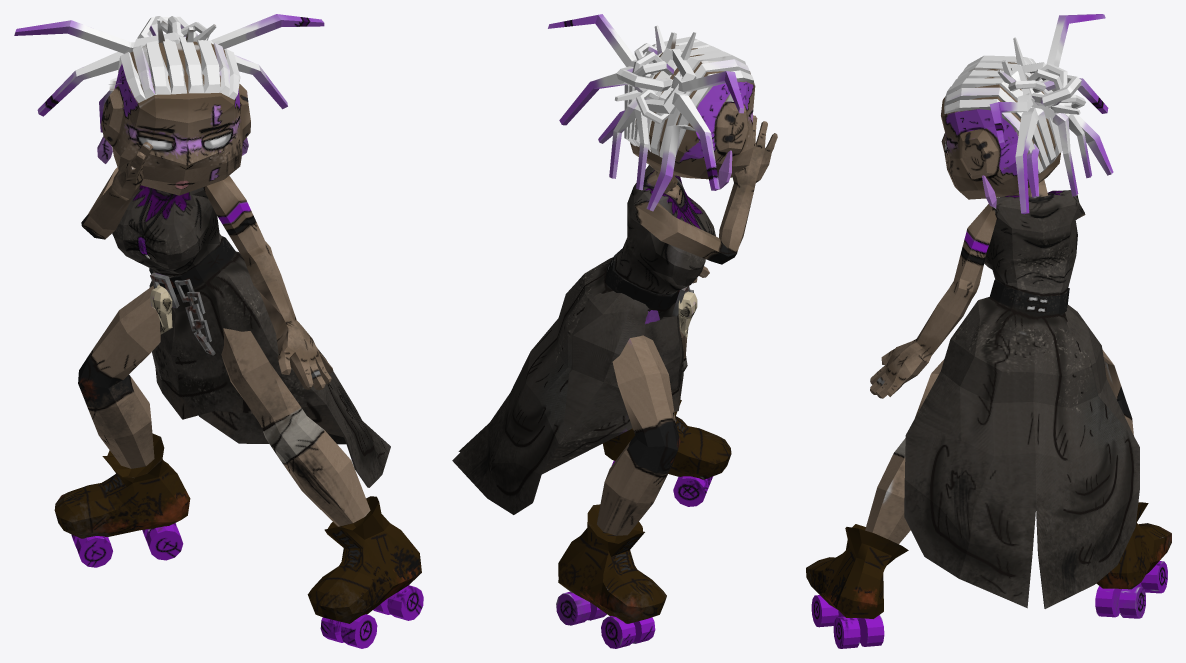
Rendered from bruja_000030.obj.
The picture shows the model from 3 angles, left to right: view 1: azimuth 30°, elevation 25°; view 2: azimuth 150°, elevation 25°; view 3: azimuth 270°, elevation 25°; orthographic projection. The views are drawn at different scales.
Visible parts, largest first — view 1: Bruja_Plane.001; view 2: Bruja_Plane.001; view 3: Bruja_Plane.001.
Part boxes in pixels (x1,y1,x2,y2): Bruja_Plane.001: (14, 14, 423, 648); Bruja_Plane.001: (452, 14, 777, 648); Bruja_Plane.001: (806, 14, 1171, 648).
Bounding box in the file's own units: 9.24 × 15.44 × 9.24.
